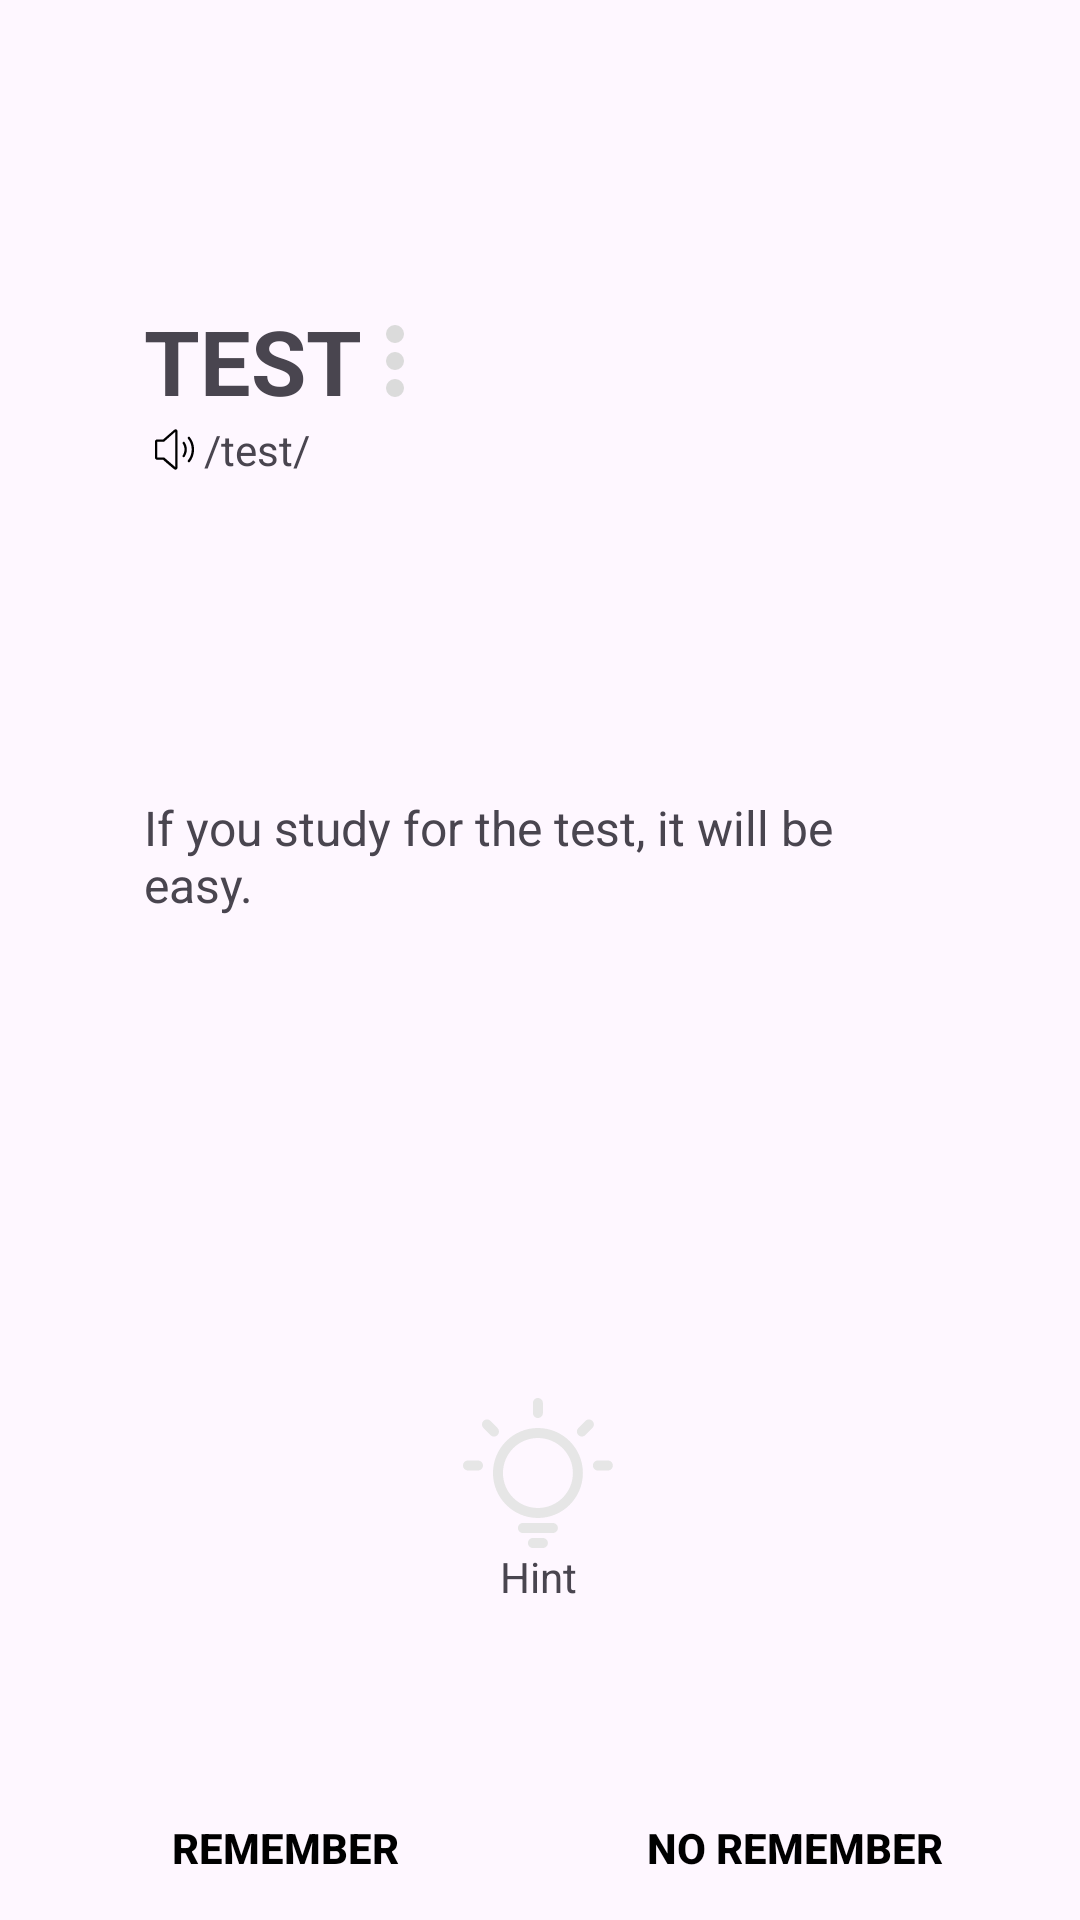

Named icons in this screenshot (1080px×1920px) and their centers, (x=x, y=y):
play sound: (x=174, y=449)
